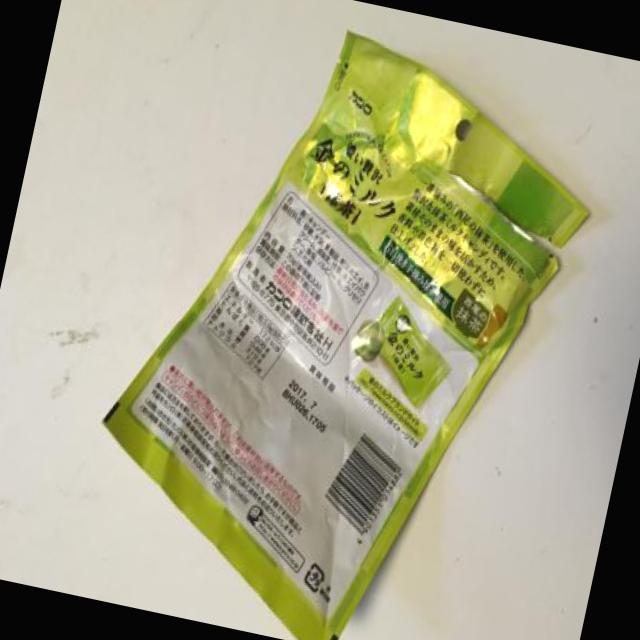Trash: (63, 0, 618, 640)
